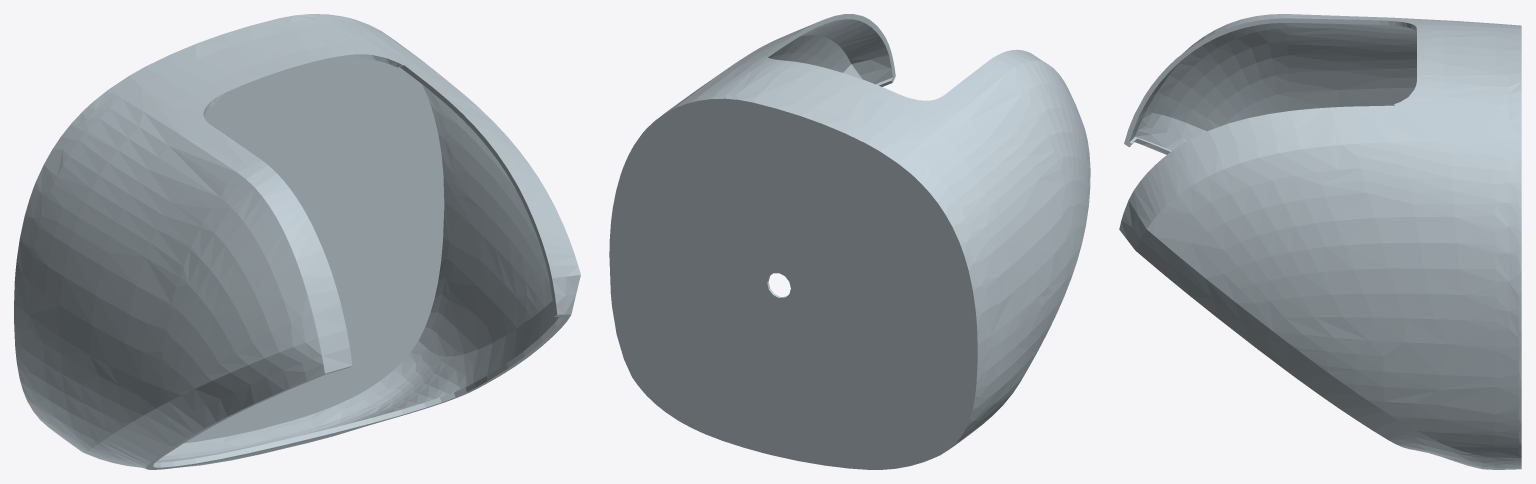
The model's file is left_hip_roll_link.dae.
The picture shows the model from 3 angles, left to right: view 1: azimuth 30°, elevation 25°; view 2: azimuth 150°, elevation 25°; view 3: azimuth 270°, elevation 25°; orthographic projection. The views are drawn at different scales.
Visible parts, largest first — view 1: left_hip_roll_link; view 2: left_hip_roll_link; view 3: left_hip_roll_link.
Boxes of the visible parts, bbox=[...] form: left_hip_roll_link: bbox=[14, 14, 580, 469]; left_hip_roll_link: bbox=[609, 14, 1090, 469]; left_hip_roll_link: bbox=[1119, 14, 1521, 469].
Bounding box in the file's own units: 0.1418 × 0.1297 × 0.1267.
